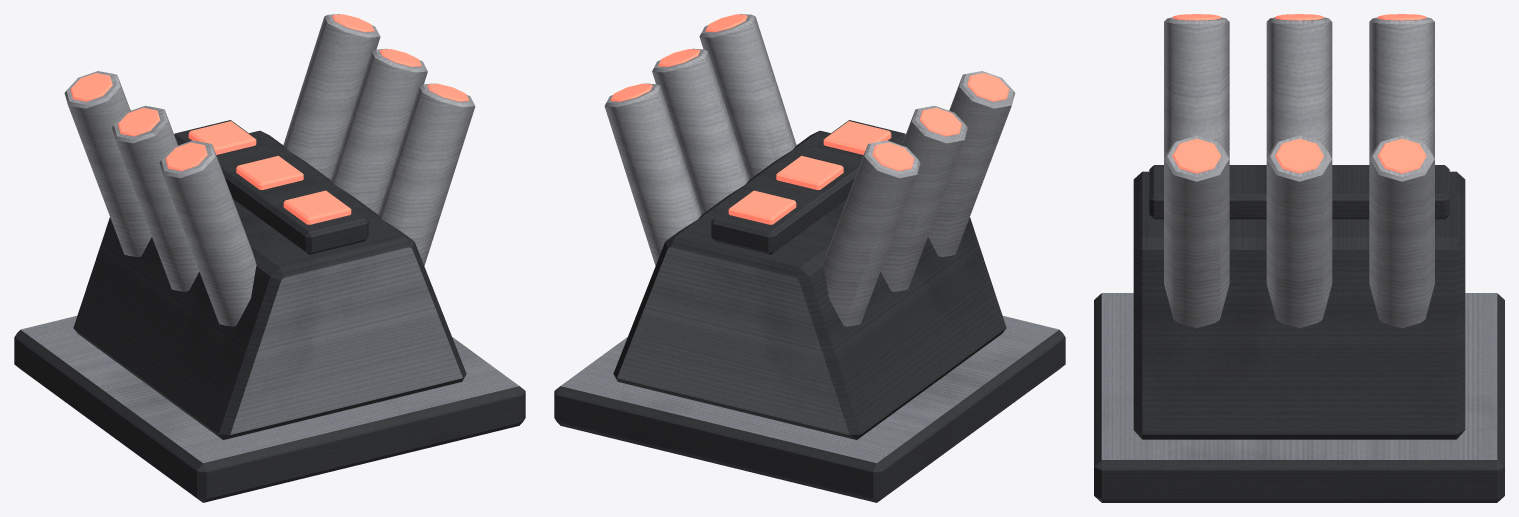
The model's file is R4X_Overdrive_LOD1.glb.
The picture shows the model from 3 angles, left to right: view 1: azimuth 30°, elevation 25°; view 2: azimuth 150°, elevation 25°; view 3: azimuth 270°, elevation 25°; orthographic projection. The views are drawn at different scales.
Parts seen in each view (by area): view 1: R4X_Overdrive_LOD1; view 2: R4X_Overdrive_LOD1; view 3: R4X_Overdrive_LOD1.
Boxes of the visible parts, box(x1,y1,x2,y2) form: R4X_Overdrive_LOD1: box(14, 14, 525, 502); R4X_Overdrive_LOD1: box(554, 14, 1065, 502); R4X_Overdrive_LOD1: box(1094, 14, 1504, 502).
Size of the model in its own units: 0.52 by 0.4765 by 0.52.
Materials: 4 (3 with a texture image).
